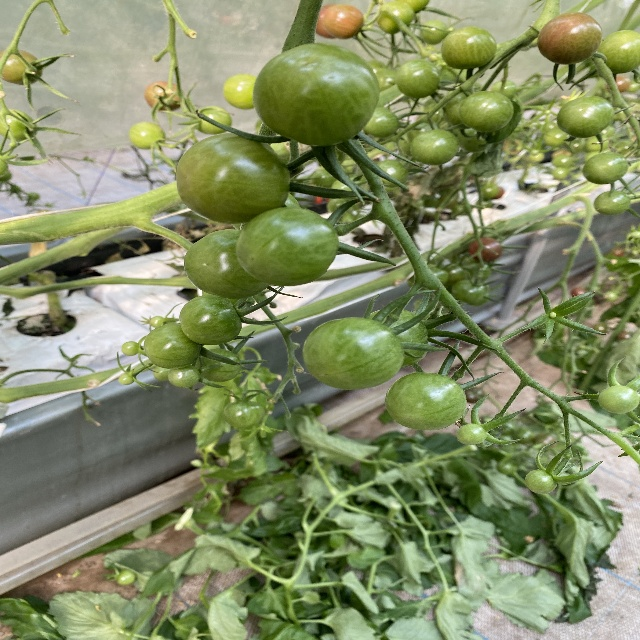l_fully_ripened: (469, 237, 503, 262)
l_green: (252, 43, 380, 146), (175, 133, 290, 225), (235, 206, 339, 286), (302, 316, 405, 390), (184, 228, 271, 300), (385, 371, 468, 430), (364, 308, 430, 368), (179, 294, 242, 345), (143, 323, 201, 368), (556, 95, 614, 138), (441, 26, 498, 69), (458, 90, 514, 132), (597, 30, 639, 74), (395, 59, 441, 98), (411, 129, 460, 165), (195, 349, 242, 382), (583, 153, 629, 184), (376, 1, 416, 33), (598, 385, 639, 414), (362, 107, 400, 137), (194, 105, 232, 134), (223, 401, 265, 427), (129, 121, 166, 149), (594, 190, 632, 215), (375, 160, 408, 188), (525, 469, 557, 495), (168, 364, 201, 388), (419, 20, 448, 44), (456, 424, 487, 445), (121, 341, 139, 356), (154, 366, 170, 381), (118, 373, 134, 385), (149, 316, 164, 328)
l_half_ripened: (537, 11, 603, 64), (324, 4, 365, 40), (143, 81, 185, 111), (222, 74, 257, 109)
